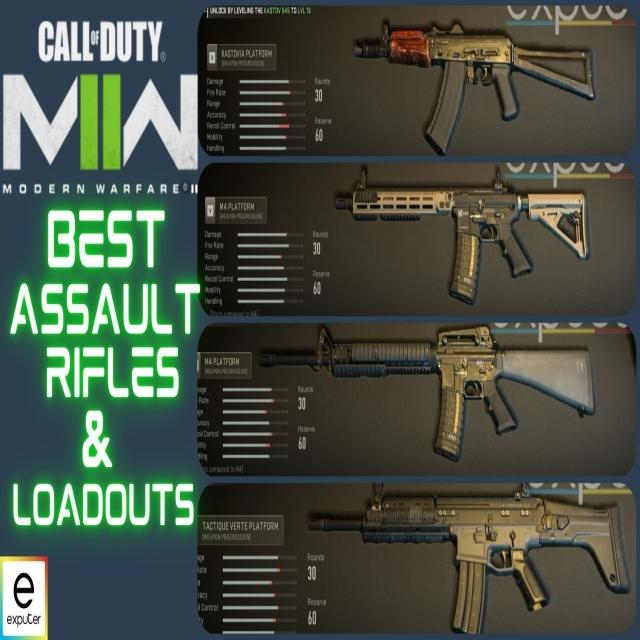Rifle: (309, 484, 632, 634), (260, 326, 597, 463), (335, 165, 592, 306), (354, 34, 597, 157)
